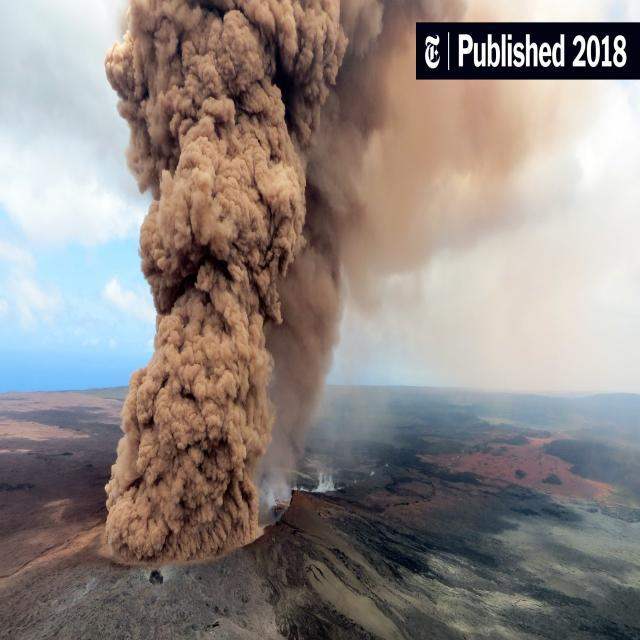Smoke: (102, 0, 382, 564)
